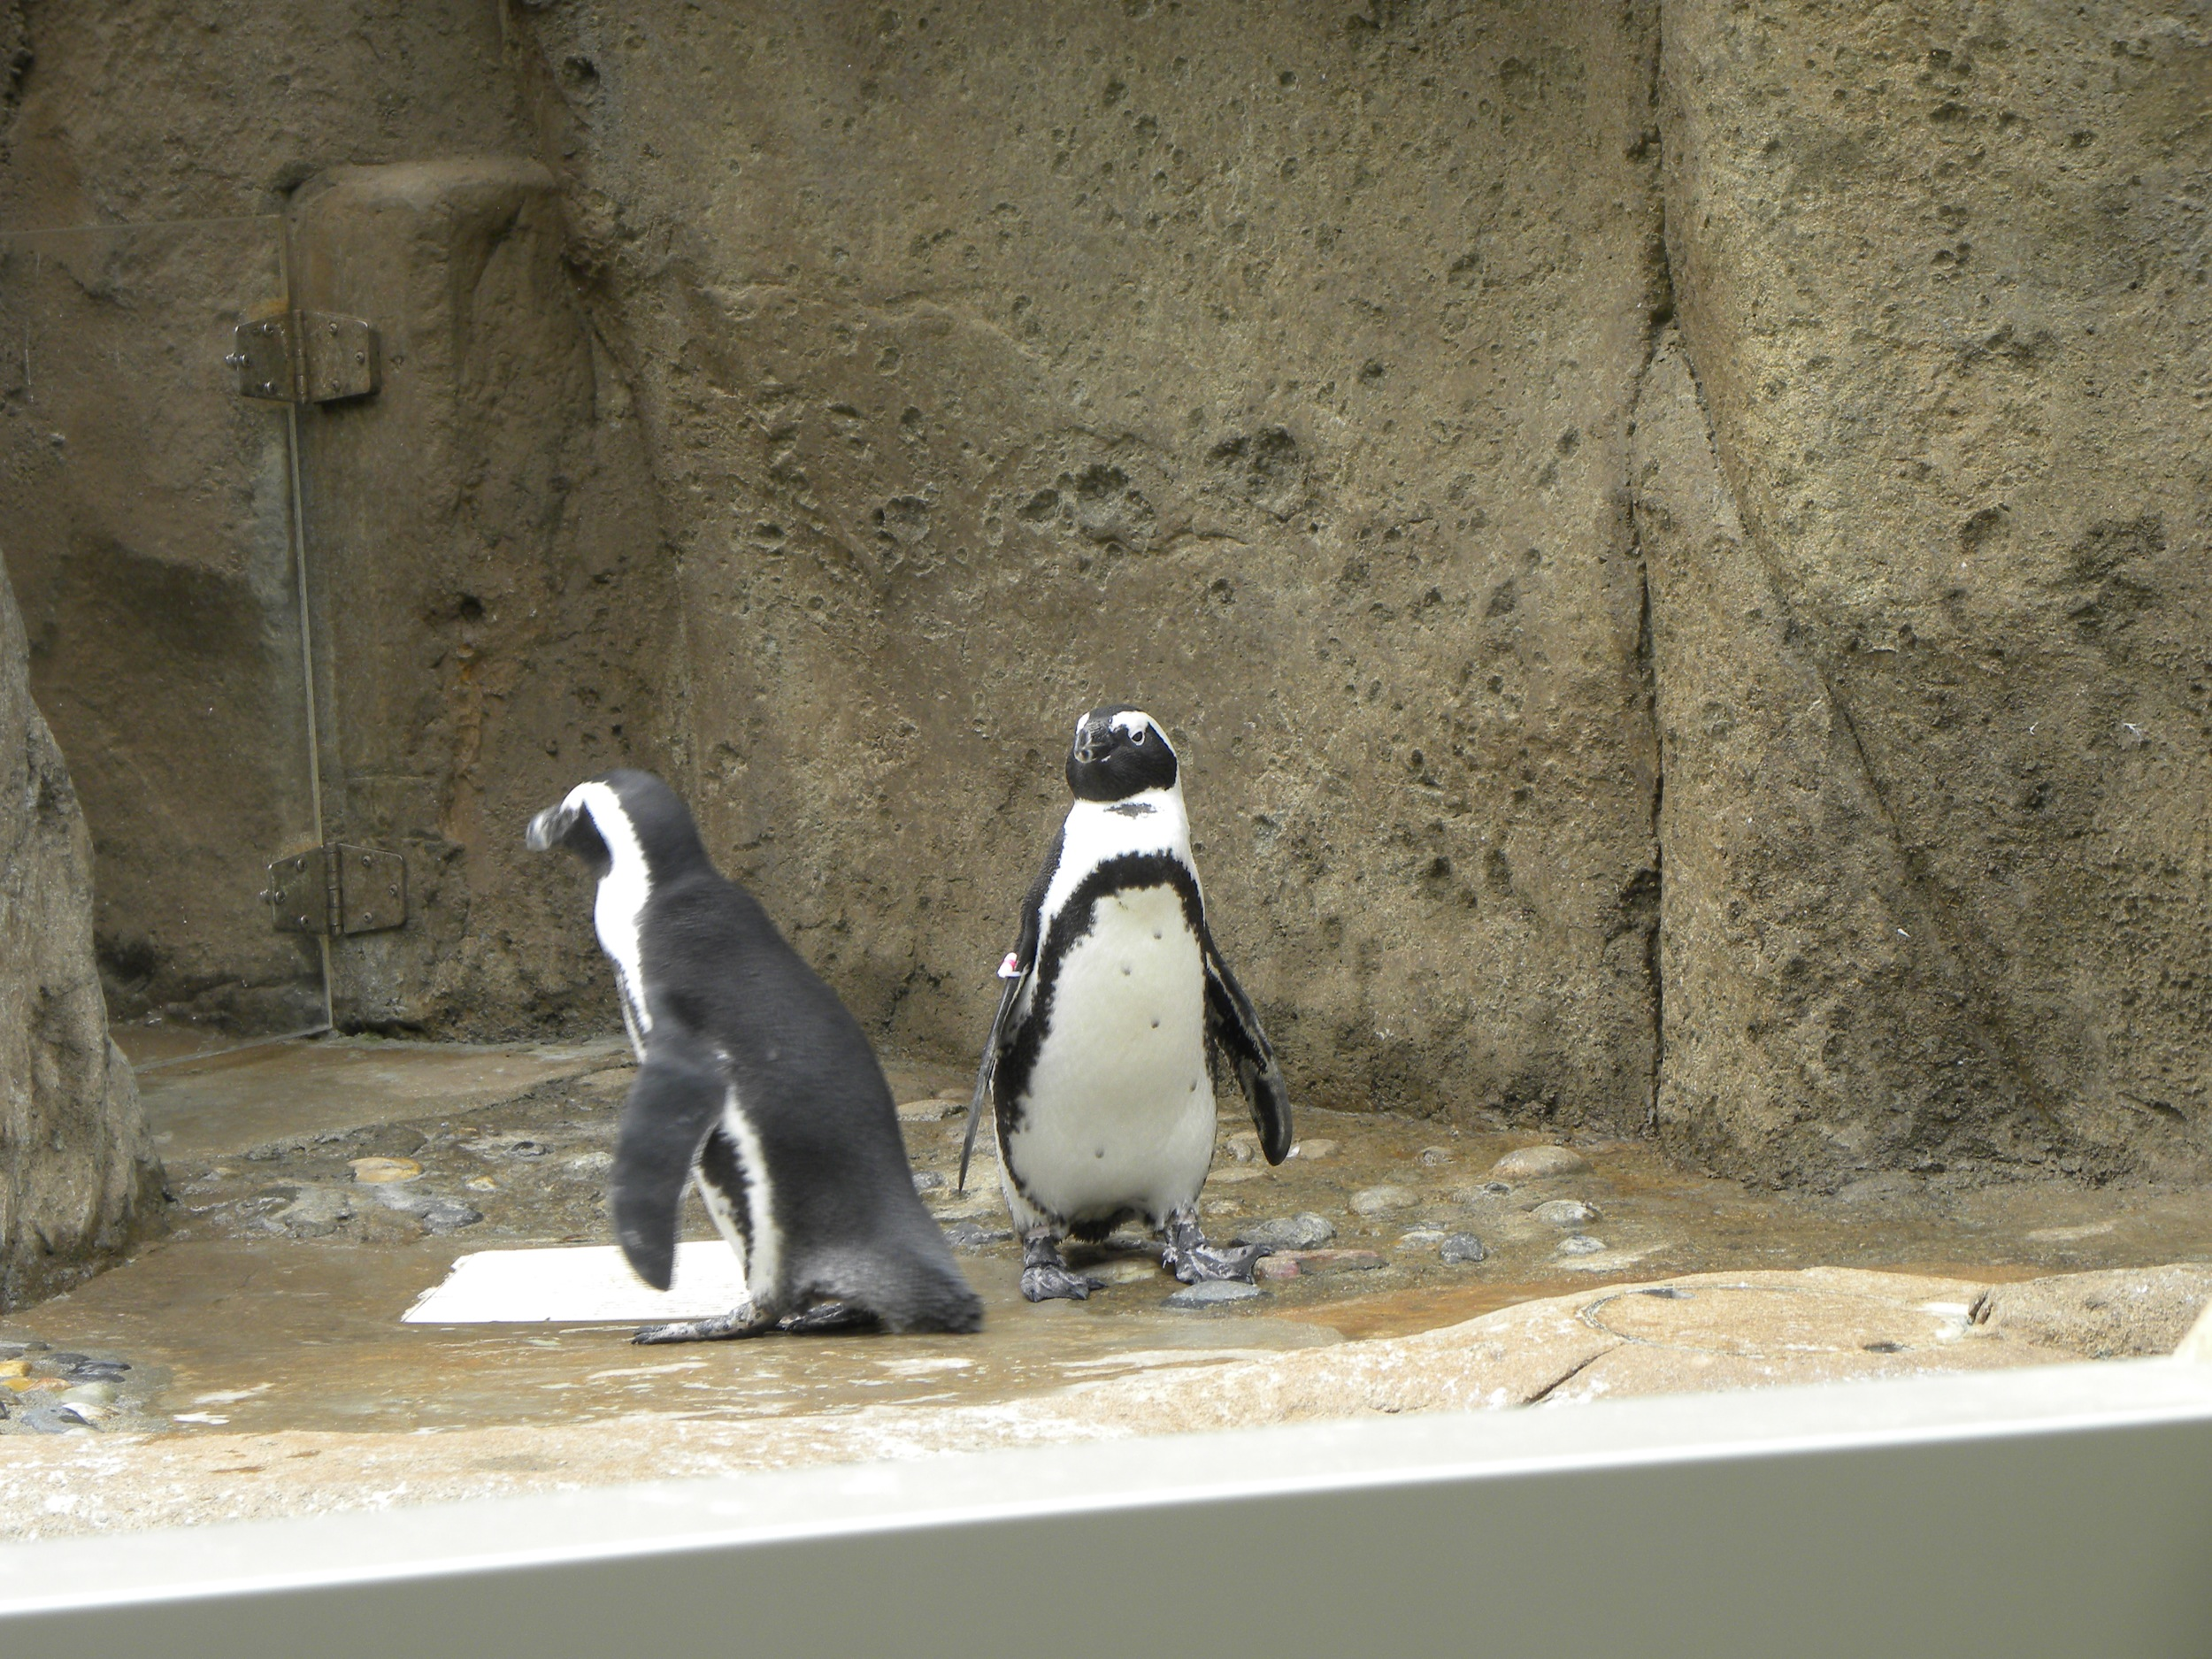penguin: (510, 769, 996, 1356), (968, 704, 1301, 1330)
